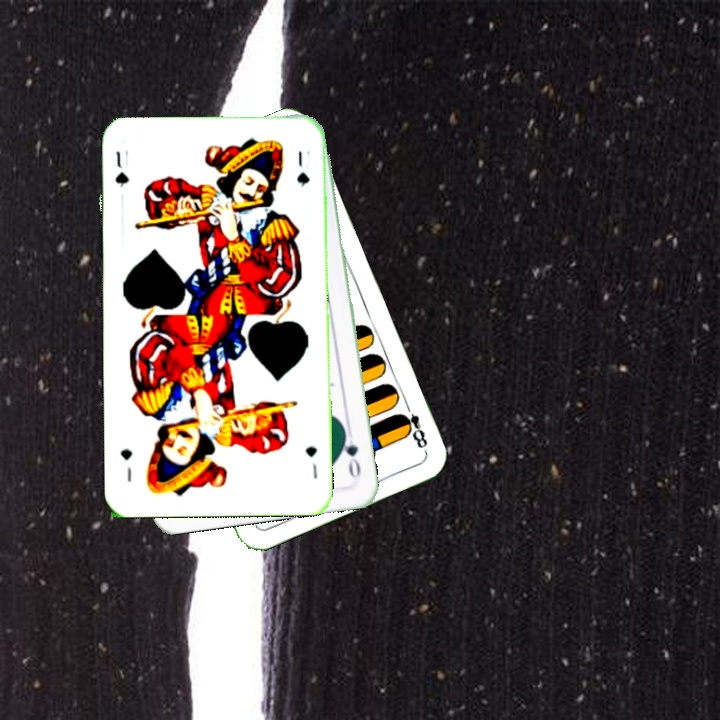E8: (395, 398, 430, 455)
GO: (338, 424, 363, 481)
GU: (111, 146, 132, 190), (301, 442, 320, 481)
